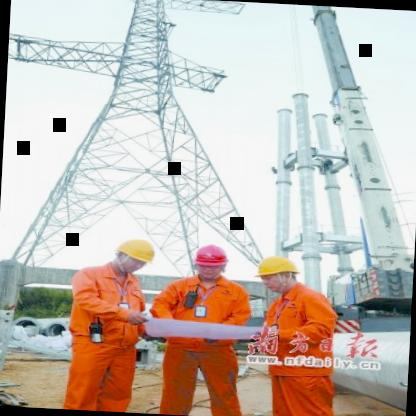helmet: (250, 248, 304, 296), (108, 231, 160, 274), (188, 240, 233, 284)
